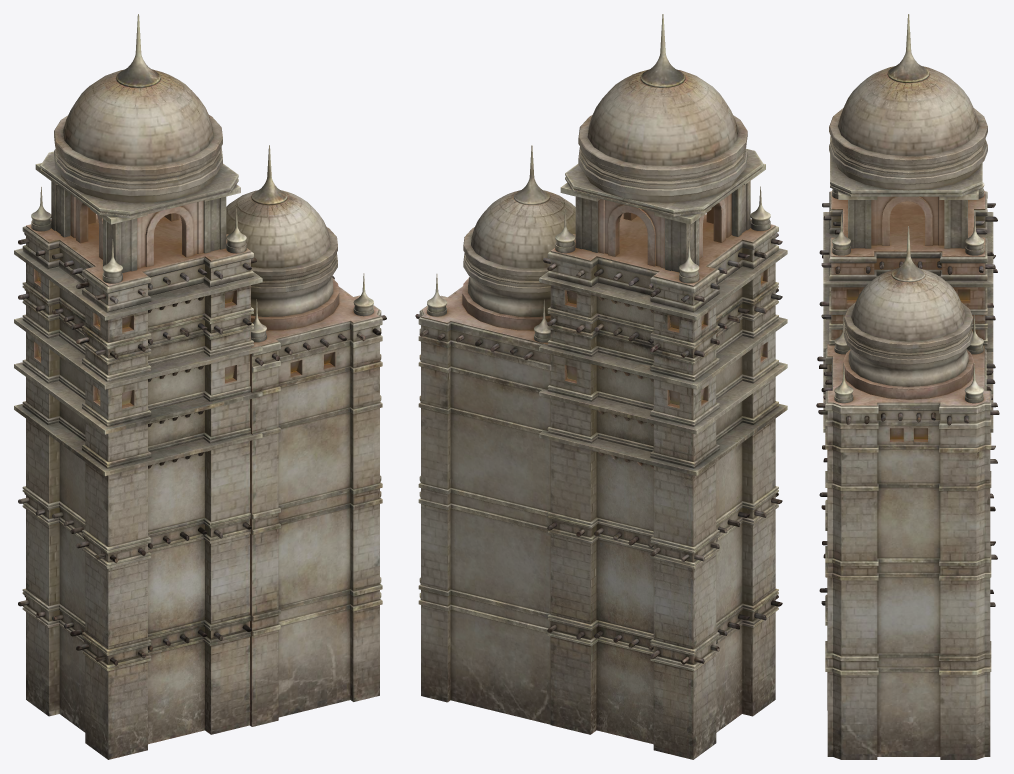
The model's file is xi_dep_tower.gltf.
3 renders of one model, left to right at view 1: azimuth 30°, elevation 25°; view 2: azimuth 150°, elevation 25°; view 3: azimuth 270°, elevation 25°, orthographic. The views are drawn at different scales.
Parts seen in each view (by area): view 1: xi_dep_tower; view 2: xi_dep_tower; view 3: xi_dep_tower.
Part boxes in pixels (x1,y1,x2,y2): xi_dep_tower: (14, 14, 386, 759); xi_dep_tower: (415, 14, 787, 759); xi_dep_tower: (816, 14, 999, 759).
Size of the model in its own units: 9.83 by 21.84 by 5.56.
1 material, 1 textured.
